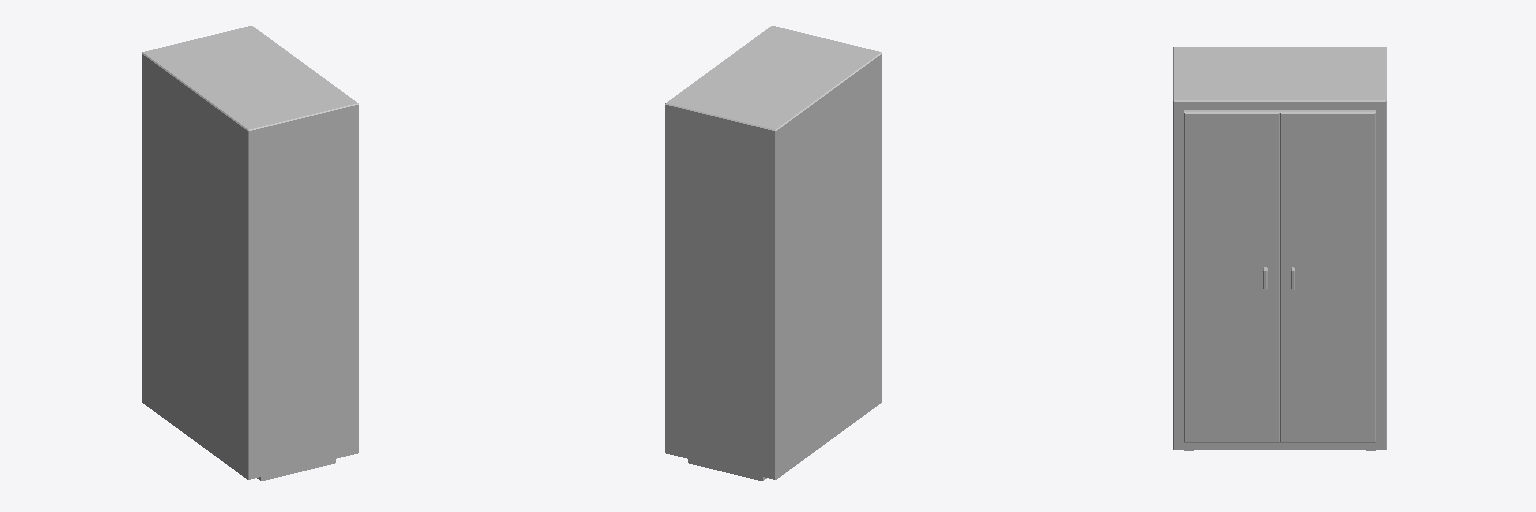
File: cupboard.obj
3 views of the same model, side by side, from view 1: azimuth 30°, elevation 25°; view 2: azimuth 150°, elevation 25°; view 3: azimuth 270°, elevation 25° (orthographic).
Visible parts, largest first — view 1: cupboard_Cube; view 2: cupboard_Cube; view 3: cupboard_Cube.
Part boxes in pixels (x1,y1,x2,y2): cupboard_Cube: (142,26,358,480); cupboard_Cube: (665,26,881,480); cupboard_Cube: (1173,47,1386,450).
Size of the model in its own units: 0.6612 by 1.85 by 1.